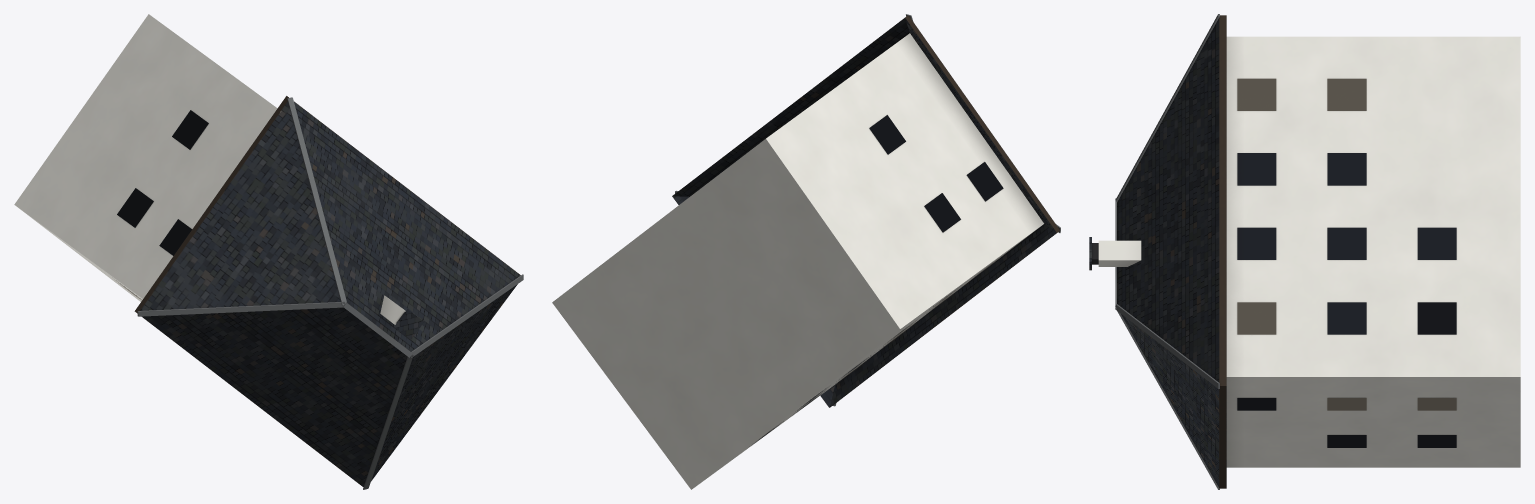
File: house_b0279.obj
3 views of the same model, side by side, from view 1: azimuth 30°, elevation 25°; view 2: azimuth 150°, elevation 25°; view 3: azimuth 270°, elevation 25° (orthographic). The views are drawn at different scales.
Visible parts, largest first — view 1: house_b0279; view 2: house_b0279; view 3: house_b0279.
Boxes of the visible parts, <box> form: house_b0279: <box>14,14,523,489</box>; house_b0279: <box>552,14,1060,489</box>; house_b0279: <box>1089,14,1520,489</box>.
Bounding box in the file's own units: 15.71 × 15.94 × 14.34.
1 material, 1 textured.
